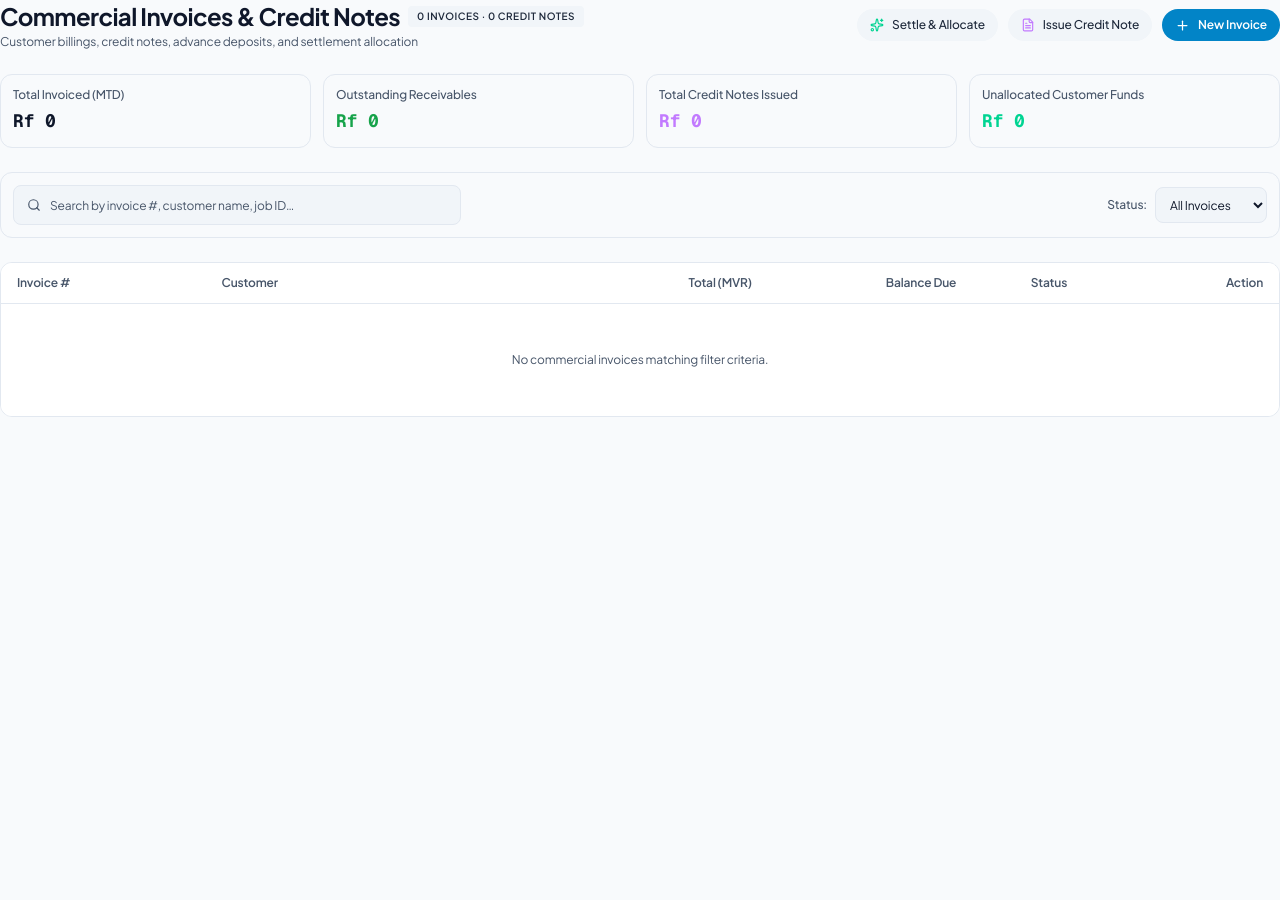
Test case: SERP-294: Credit Notes & Settlement Allocation UI › opens Credit Note Modal and allows issuing a credit note
Step 1. Click the button with test id "open-credit-note-modal-btn" → (1080, 25), box [1008,9,1152,41]
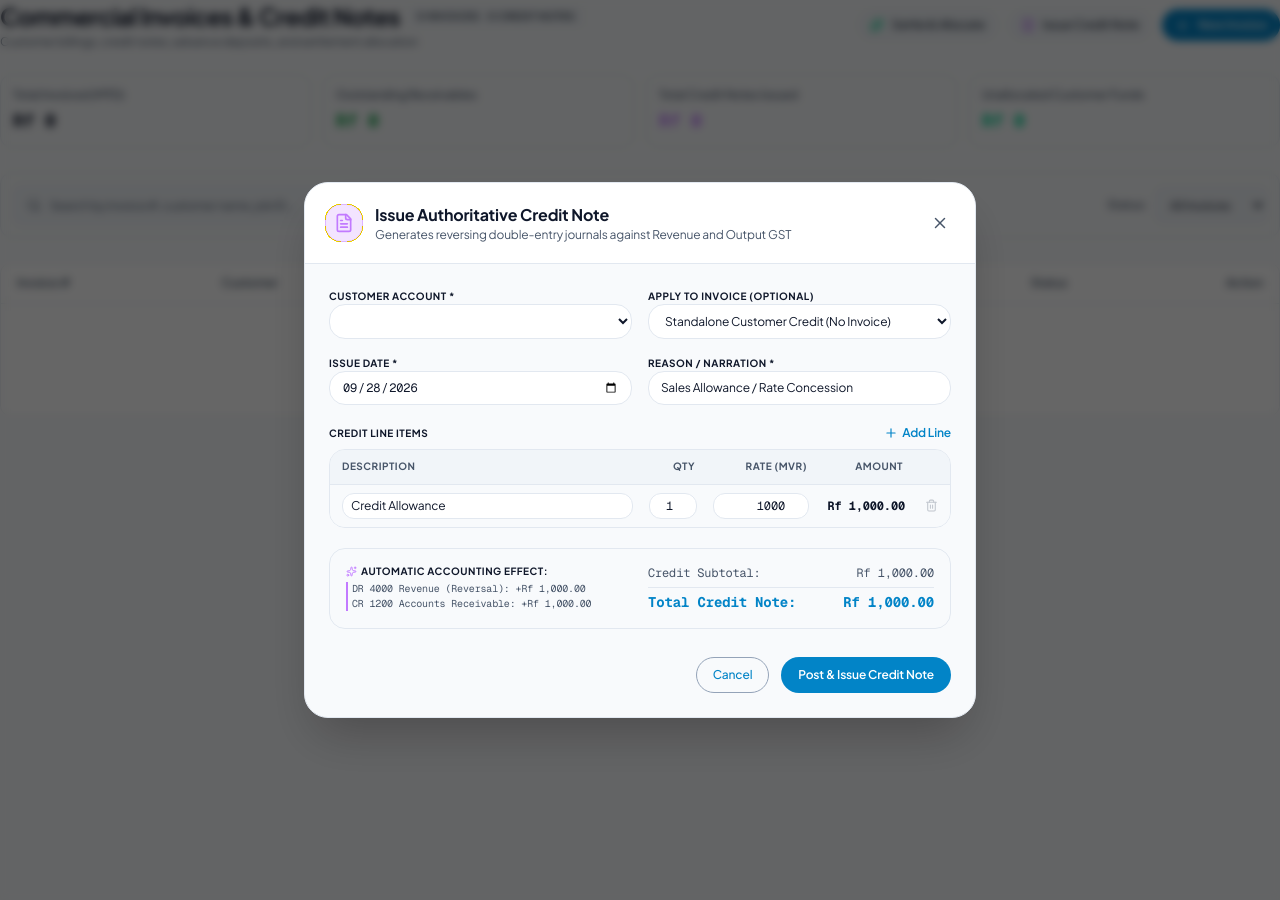
Expected: the element with test id "credit-note-modal" is shown
Expected: the heading "Issue Authoritative Credit Note" is shown, [375,204,609,225]
Expected: the text "Automatic Accounting Effect:" is shown, [346,565,548,577]
Note: Close modal
Step 2. Click the button "Cancel" → (732, 675), box [696,657,769,693]
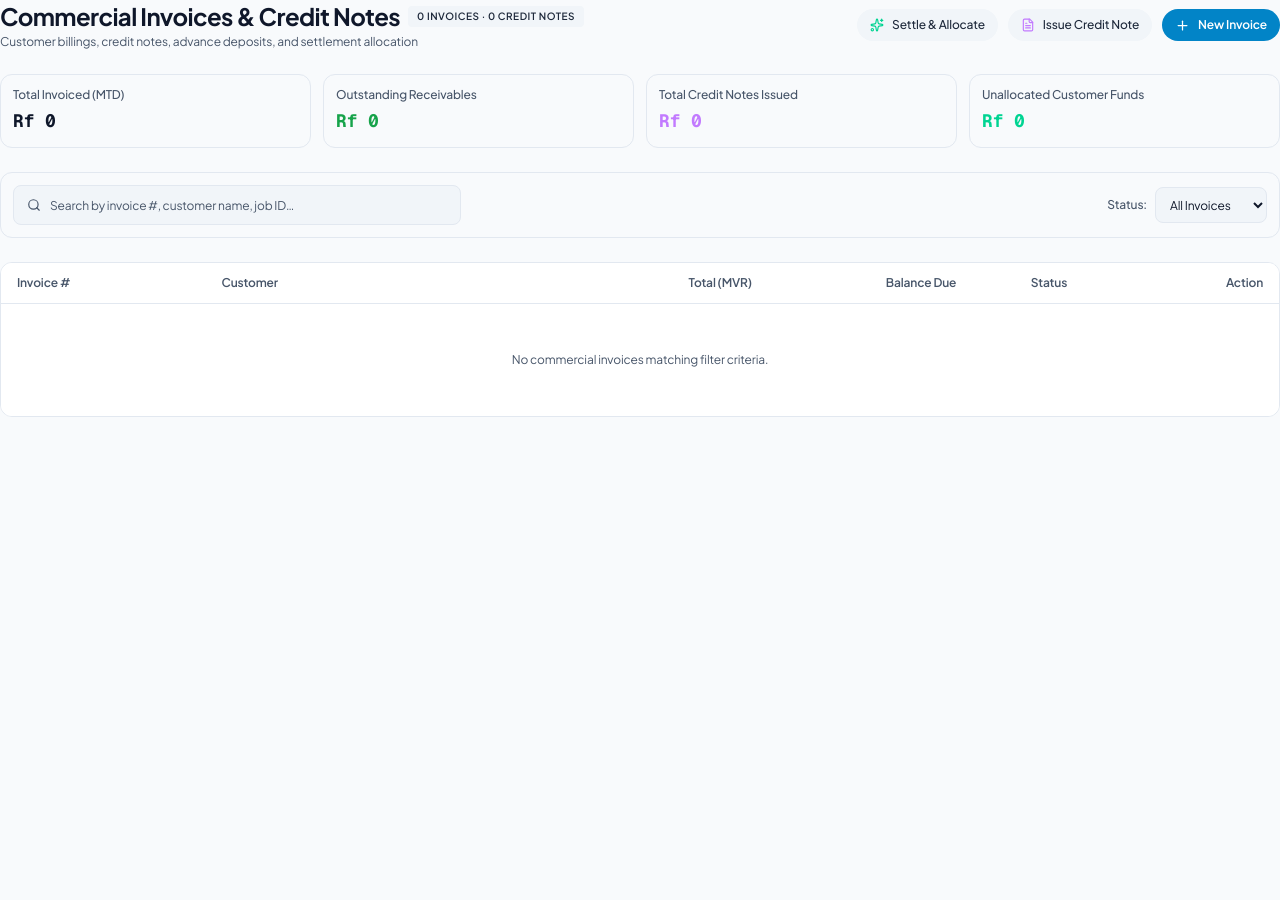
Expected: the element with test id "credit-note-modal" is gone
